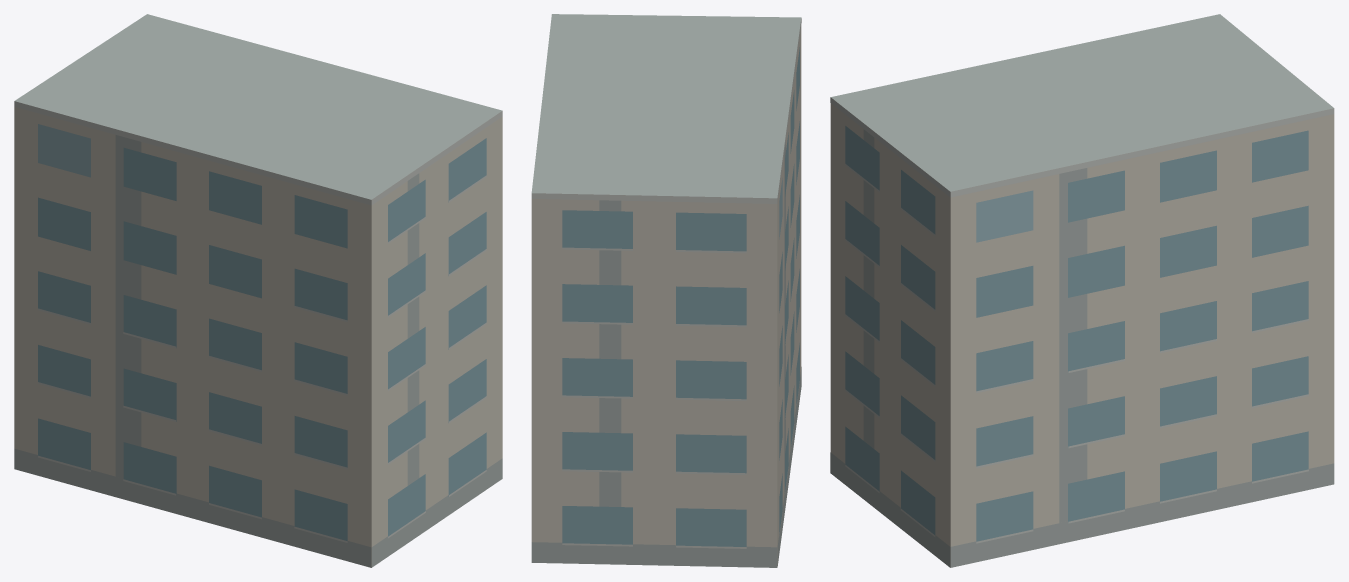
Rendered from survey-upis-32905401.glb.
3 views of the same model, side by side, from view 1: azimuth 30°, elevation 25°; view 2: azimuth 150°, elevation 25°; view 3: azimuth 270°, elevation 25° (orthographic). The views are drawn at different scales.
Parts seen in each view (by area): view 1: survey-upis-32905401.tmp; view 2: survey-upis-32905401.tmp; view 3: survey-upis-32905401.tmp.
Boxes of the visible parts, x1,y1,x2,y2 form: survey-upis-32905401.tmp: (14,14,502,567); survey-upis-32905401.tmp: (531,14,801,567); survey-upis-32905401.tmp: (830,14,1334,567).
Bounding box in the file's own units: 16.03 × 15.8 × 19.19.
